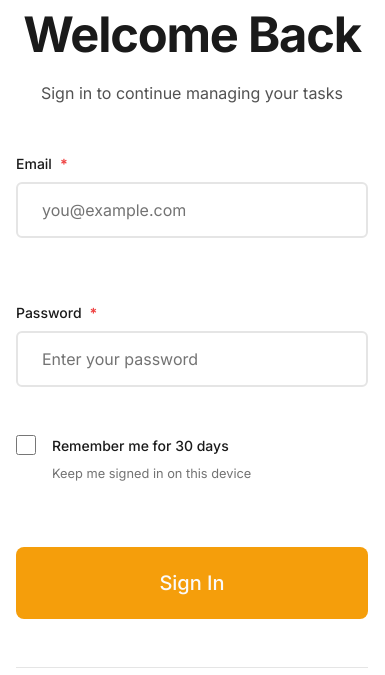
Login Page › Error Messages › displays generic error when fetch fails
The image size is (385, 675).
Step 1. Type "test@example.com" into the field labelled "Email *" → [192, 210], box [16,182,368,238]
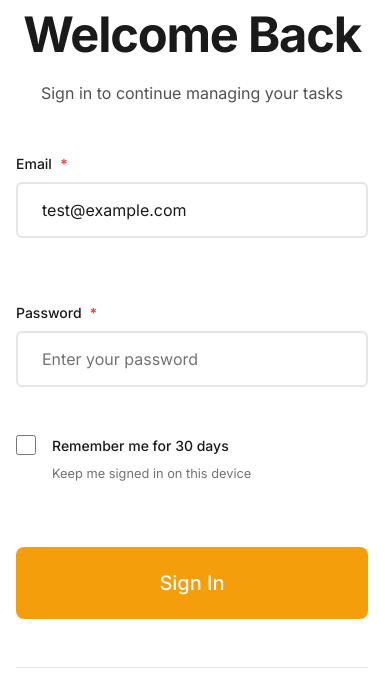
Step 2. Type "password123" into the password field labelled "Password *" → [192, 359], box [16,331,368,387]
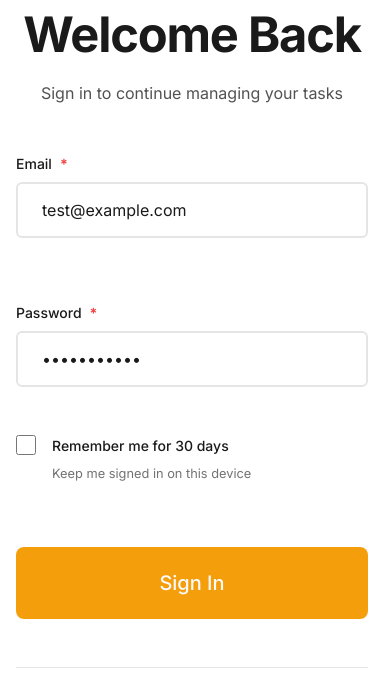
Step 3. Click the button "Sign In" → [192, 583], box [16,547,368,619]
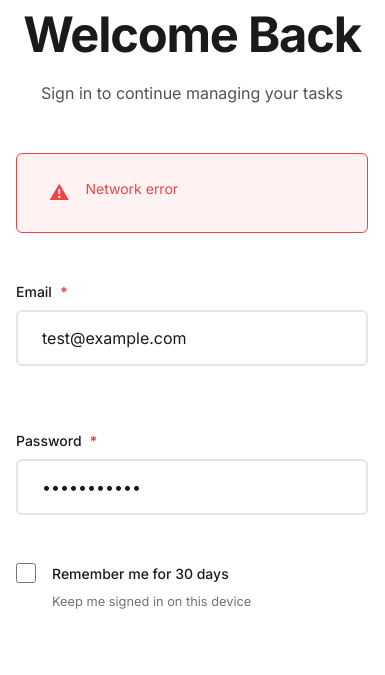
Expected: the text "Network error" is shown, [86,178,178,199]
